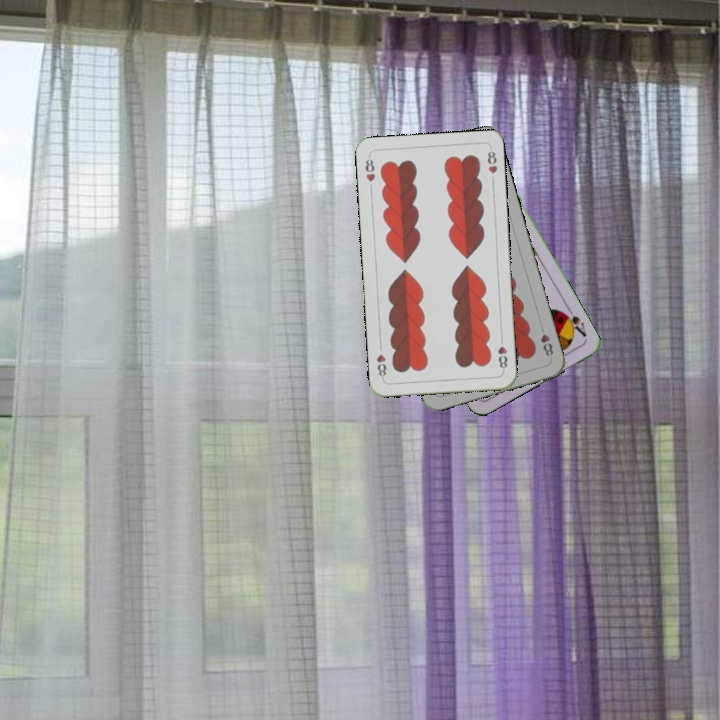H8: (494, 333, 510, 374), (537, 330, 556, 359), (361, 152, 378, 184)
SA: (558, 304, 589, 340)
